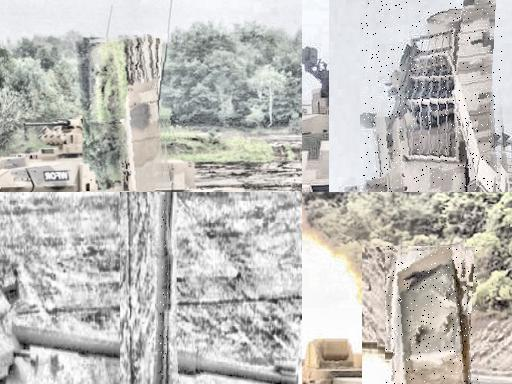tanks: (367, 1, 502, 193), (397, 248, 474, 384), (105, 36, 165, 193), (159, 194, 169, 384), (92, 173, 101, 192)
